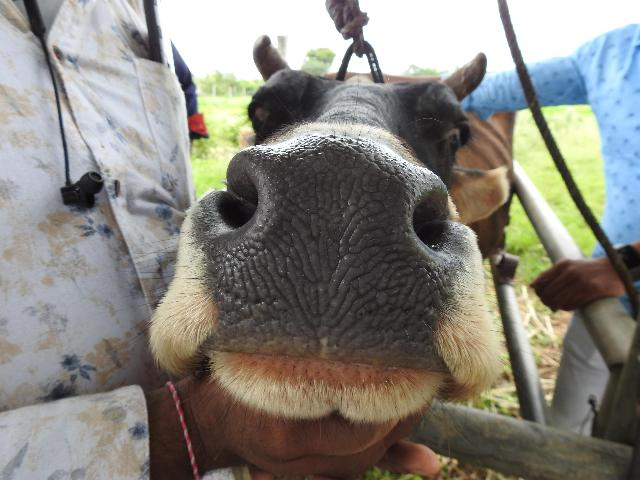Muzzle: (258, 146, 400, 342)
